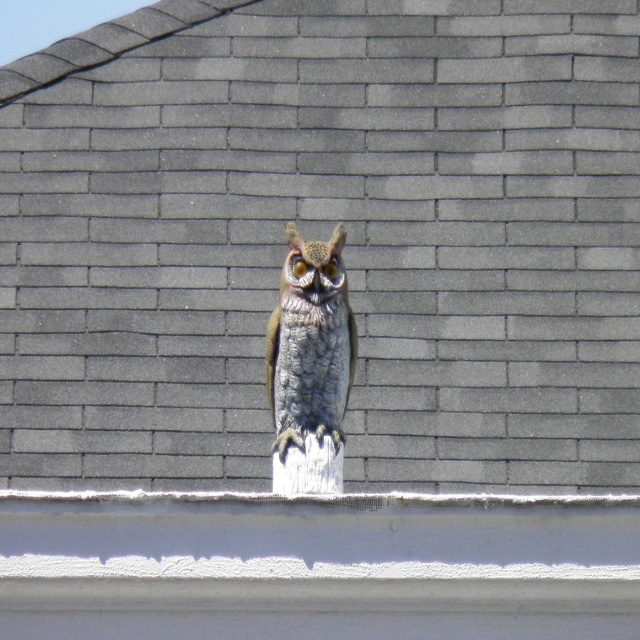Owl: (266, 227, 362, 467)
